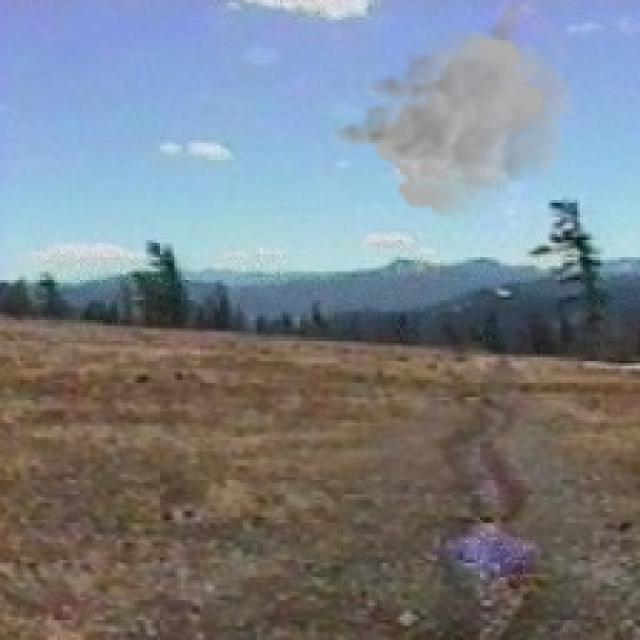smoke: (326, 0, 580, 220)
